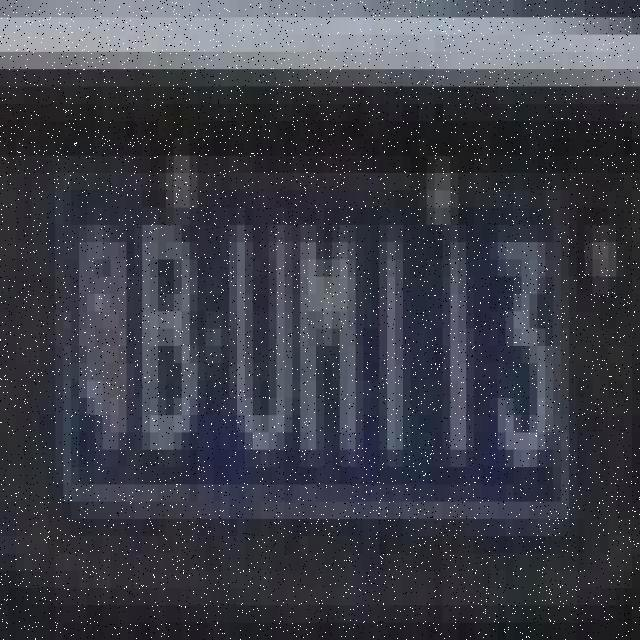licenseplate: (36, 97, 596, 572)
